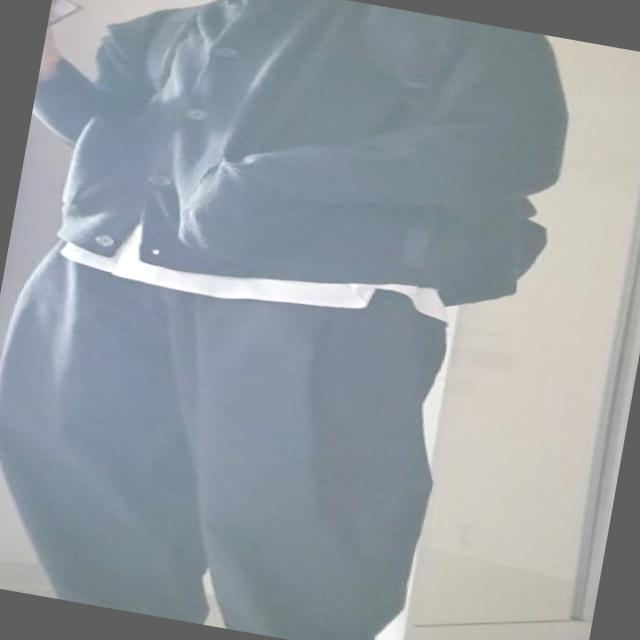cardigan: (8, 0, 589, 337)
cottonpants: (0, 219, 465, 640)
